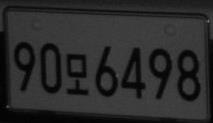0: (39, 42, 62, 94)
4: (120, 46, 146, 99)
6: (93, 44, 119, 97)
8: (175, 48, 201, 101)
9: (147, 46, 173, 100), (12, 40, 36, 93)
모: (65, 52, 89, 95)
